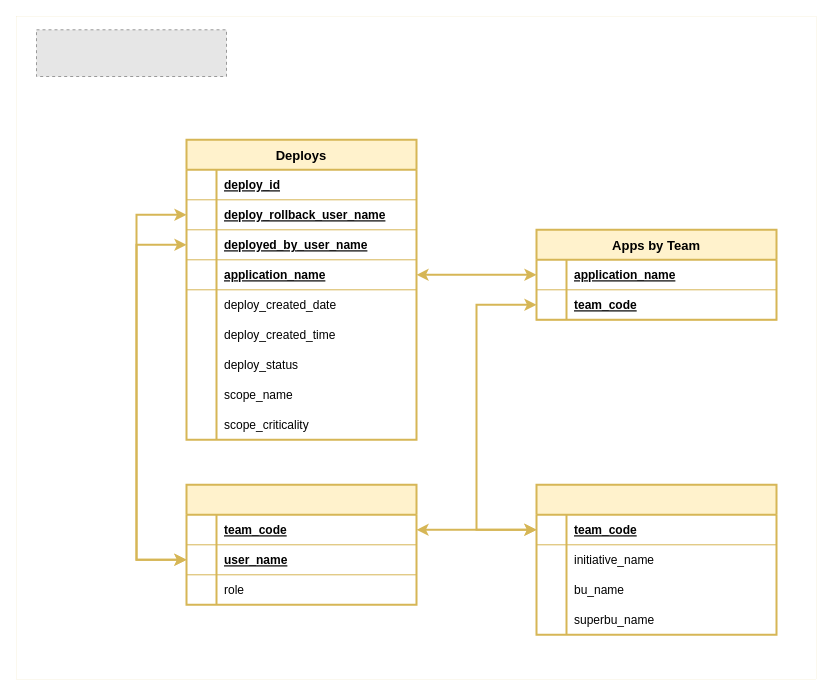
The diagram is 833 pixels wide and 696 high, and some of its shapes have lost their labels. Grey dashed boxes stand in for pictures. Here are the shapes that lost their labels. From the top down, the box of each, then its label:
(185, 483, 417, 605): Users & Roles by Team
(535, 483, 777, 635): Teams by Initiative
